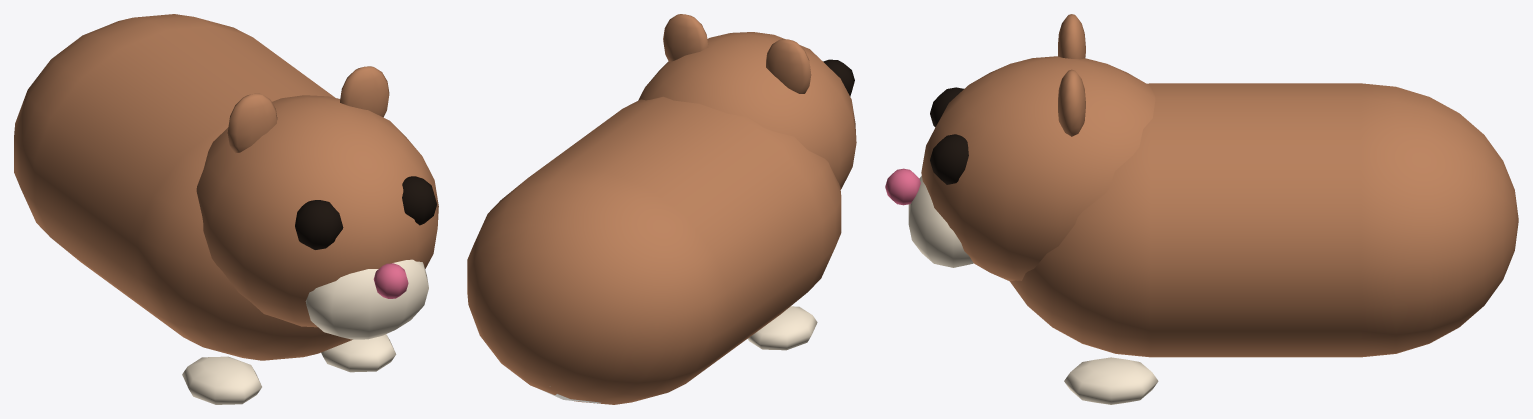
Rendered from h34-marmut.glb.
The picture shows the model from 3 angles, left to right: view 1: azimuth 30°, elevation 25°; view 2: azimuth 150°, elevation 25°; view 3: azimuth 270°, elevation 25°; orthographic projection. The views are drawn at different scales.
Parts seen in each view (by area): view 1: Marmut, head; view 2: Marmut, head; view 3: Marmut, head.
Boxes of the visible parts, box(x1,y1,x2,y2) form: Marmut: box(14, 14, 396, 404); head: box(196, 66, 438, 339); Marmut: box(467, 96, 841, 404); head: box(638, 14, 856, 189); Marmut: box(1010, 83, 1518, 404); head: box(885, 14, 1155, 281).
Size of the model in its own units: 0.2364 by 0.27 by 0.482.
